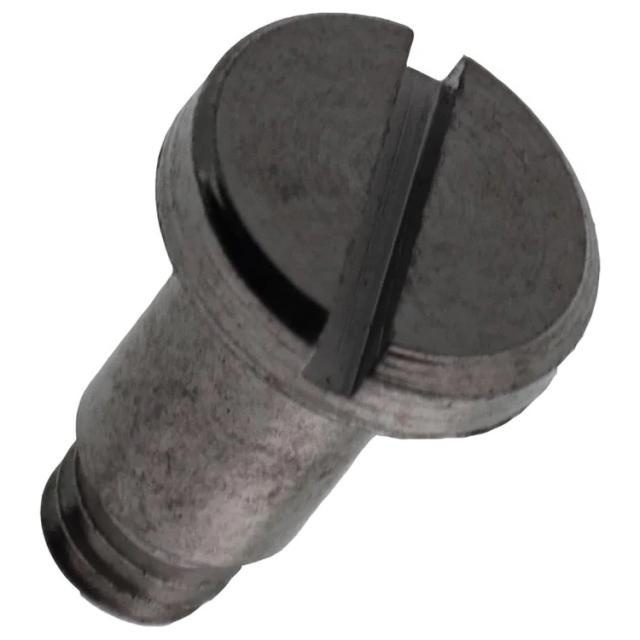duz: (151, 9, 602, 439)
